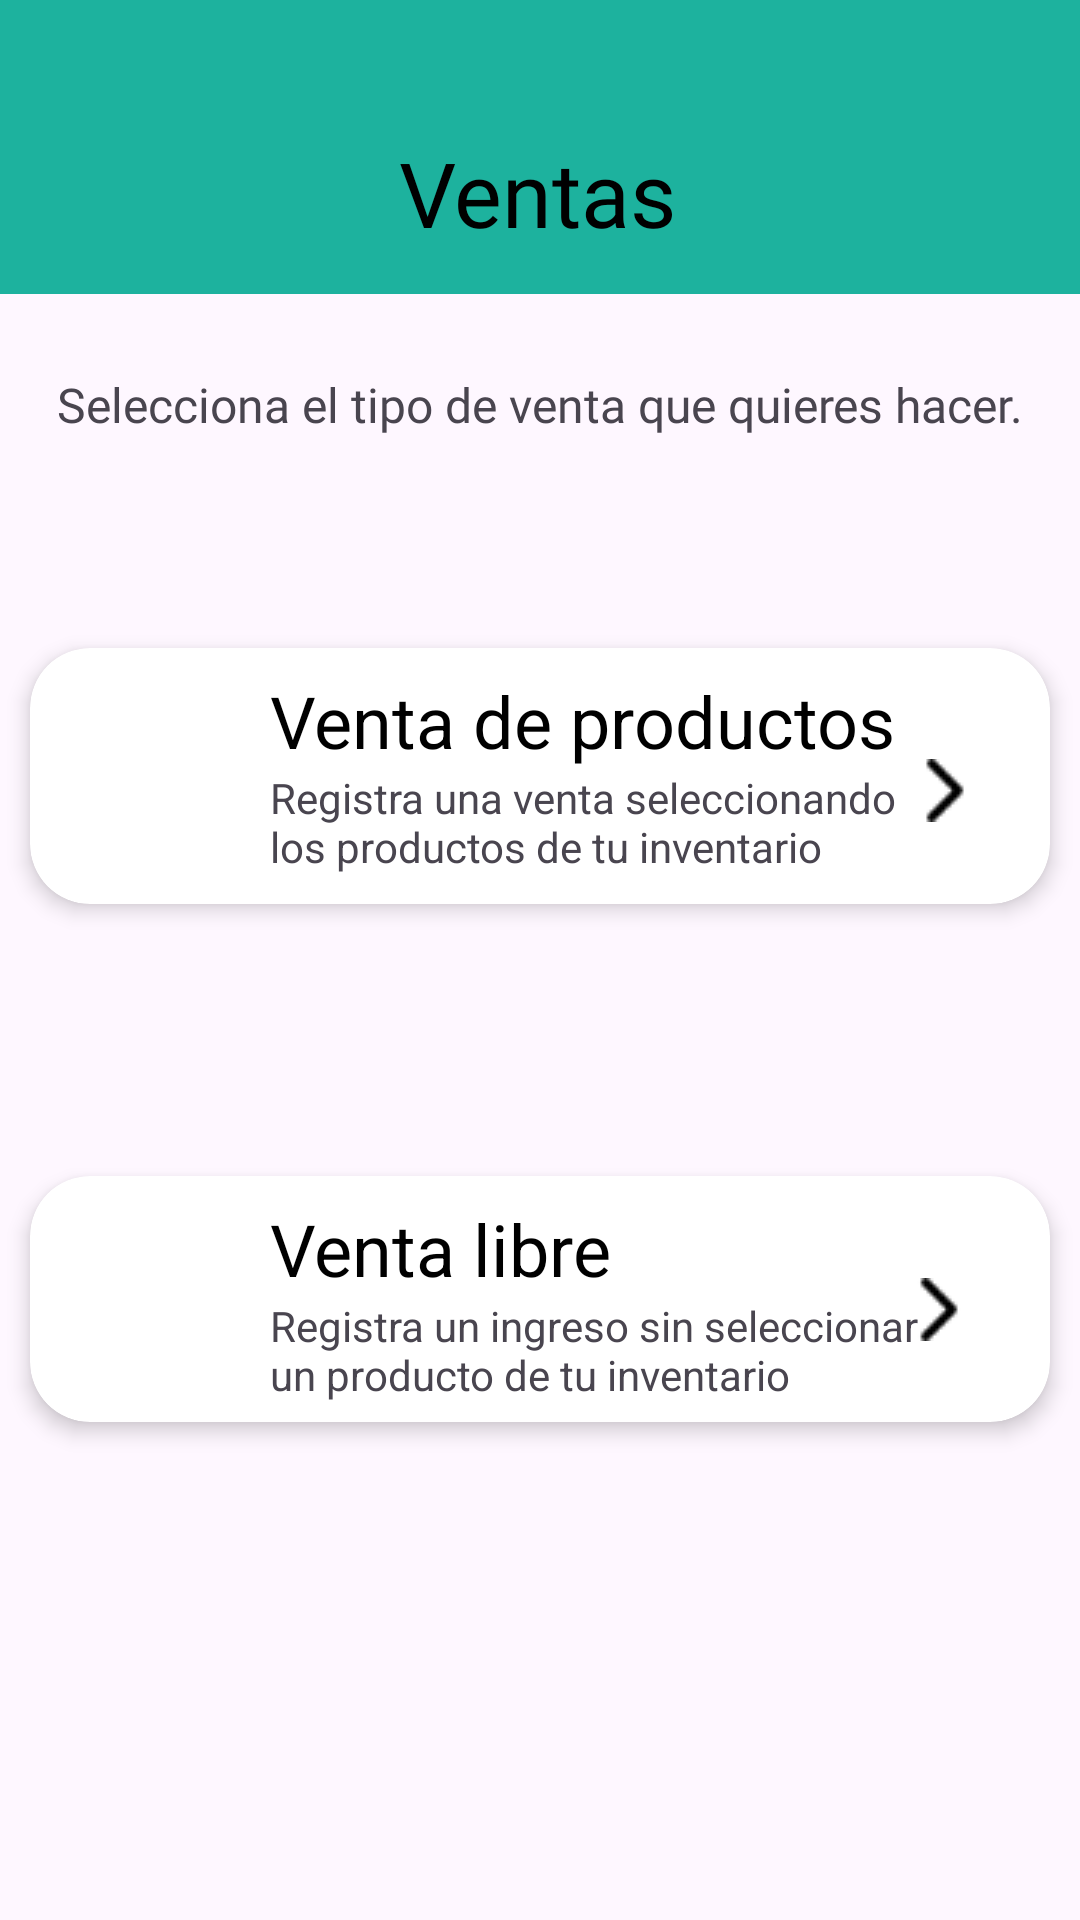

Where to tap for icons on this 1080px x 1920px app screen, as [x,y]:
flecha navegar: [945,790], [939,1309]
